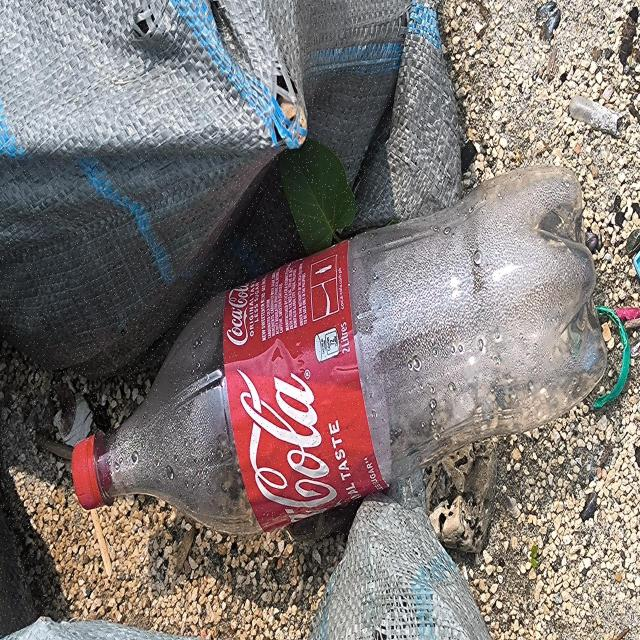plastic_waste: (69, 168, 609, 537)
